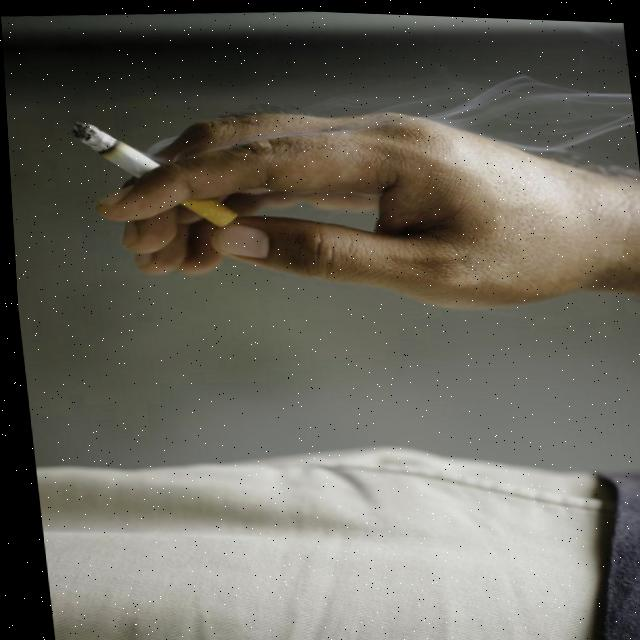cigarette: (71, 122, 159, 178), (180, 199, 236, 227)
